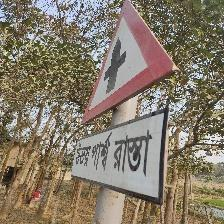Crossroad: (76, 2, 178, 220)
